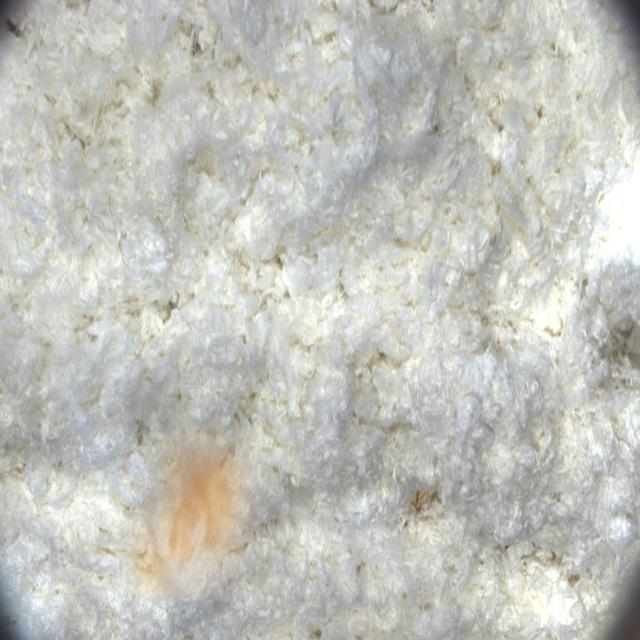dust: (119, 425, 266, 601)
